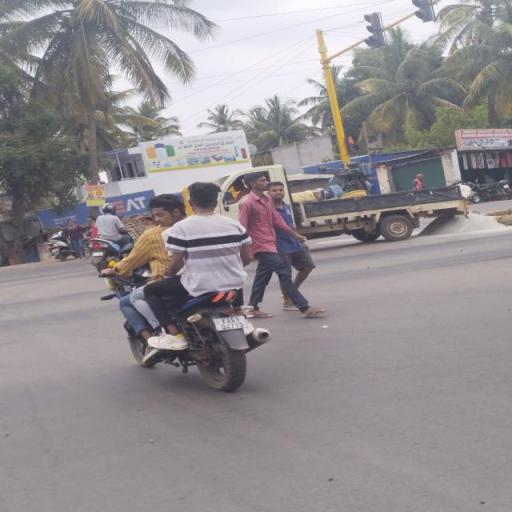bike: (100, 179, 290, 393)
numberplate: (209, 310, 251, 334)
withouthelmet: (151, 195, 180, 225), (190, 183, 218, 212)
